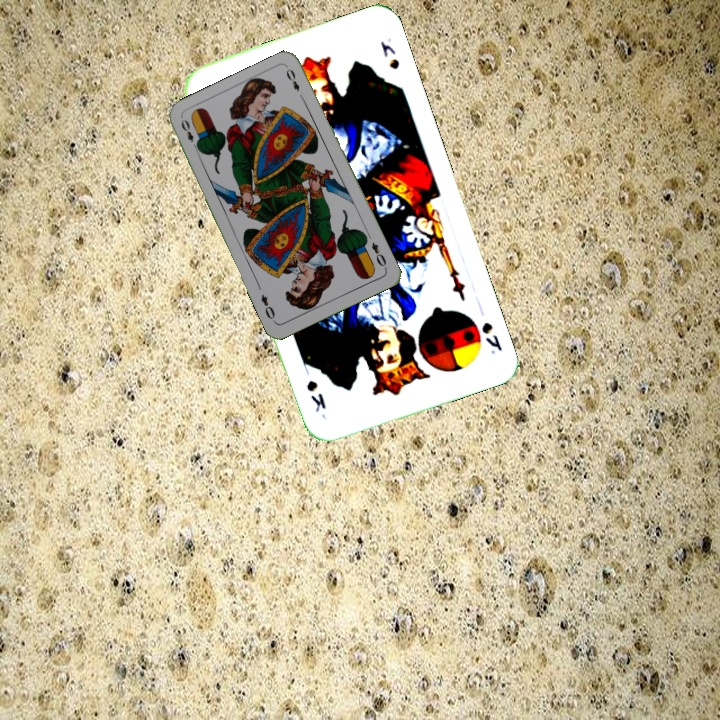EO: (177, 115, 202, 153), (367, 238, 389, 272)
SK: (477, 318, 505, 357)
